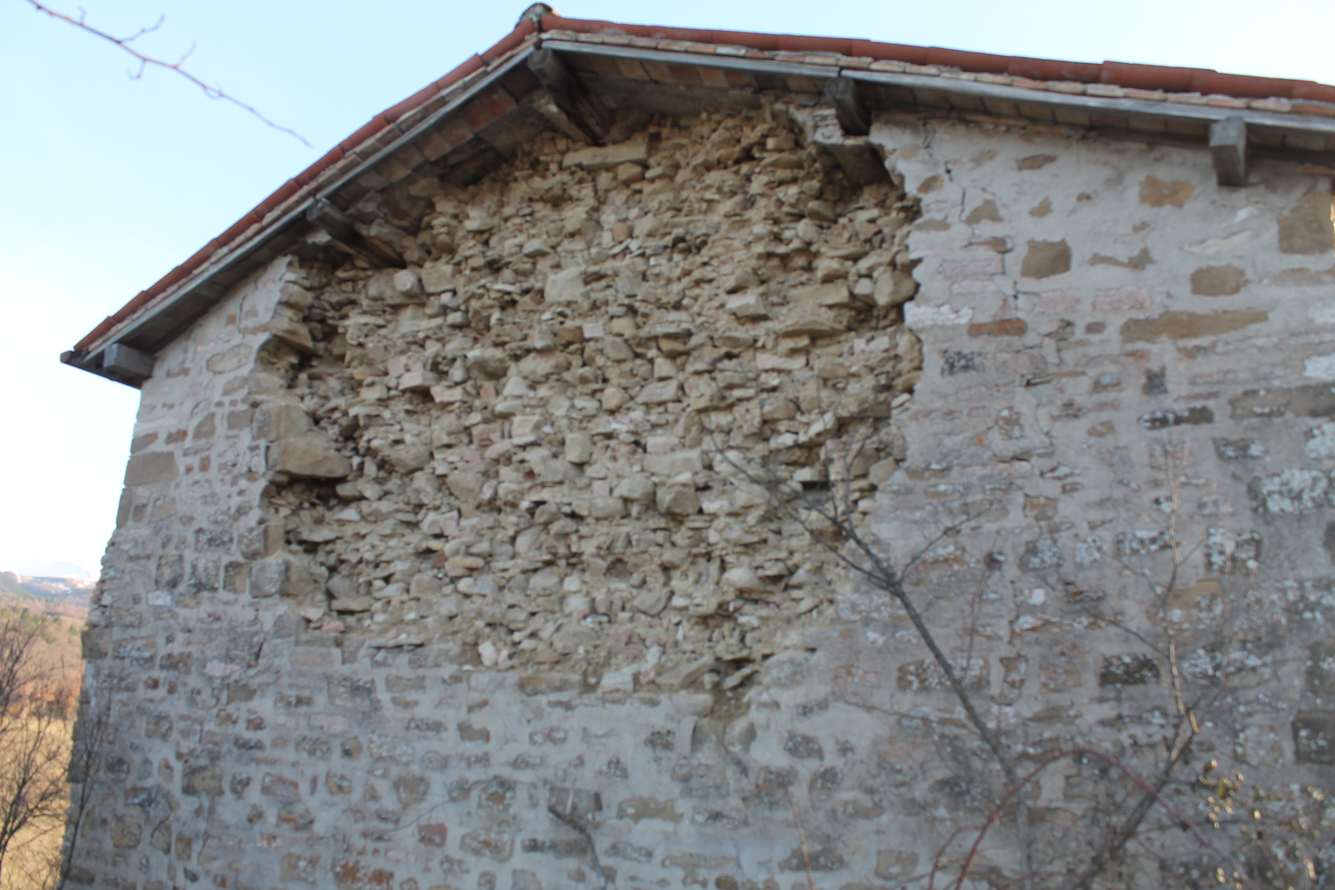Crack: (910, 99, 1092, 371)
Other damage/mechanism: (232, 62, 938, 737)
Spalling: (275, 66, 913, 707)
